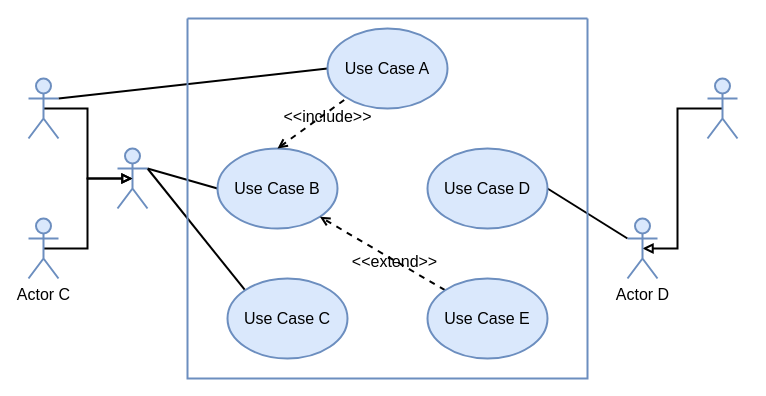
This 766x396 diagram has some shape labels left out. The centre of each missing label's shape, as x and y in pixels:
Actor A: point (43, 108)
Actor B: point (132, 178)
Actor E: point (722, 108)
Subsystem A: point (387, 198)
